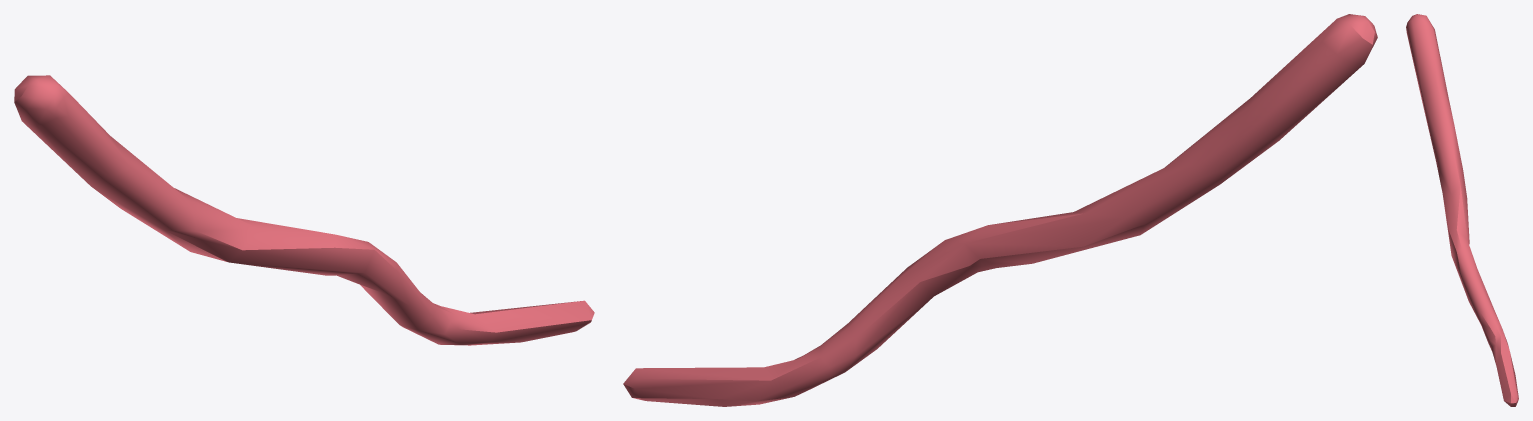
The model's file is fma4716_fj2729.glb.
The picture shows the model from 3 angles, left to right: view 1: azimuth 30°, elevation 25°; view 2: azimuth 150°, elevation 25°; view 3: azimuth 270°, elevation 25°; orthographic projection. The views are drawn at different scales.
Parts seen in each view (by area): view 1: FMA4716_FJ2729; view 2: FMA4716_FJ2729; view 3: FMA4716_FJ2729.
Part boxes in pixels (x1=…): FMA4716_FJ2729: x1=14, y1=75, x2=594, y2=345; FMA4716_FJ2729: x1=623, y1=14, x2=1377, y2=406; FMA4716_FJ2729: x1=1406, y1=14, x2=1518, y2=406.
Bounding box in the file's own units: 0.0156 × 0.0106 × 0.00457.
